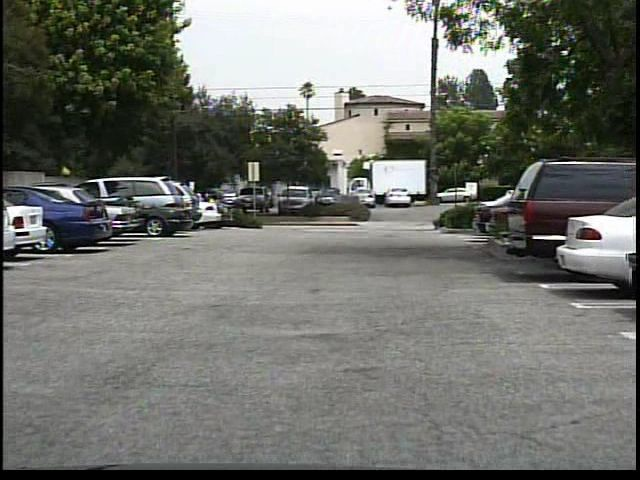person: (208, 192, 222, 223)
